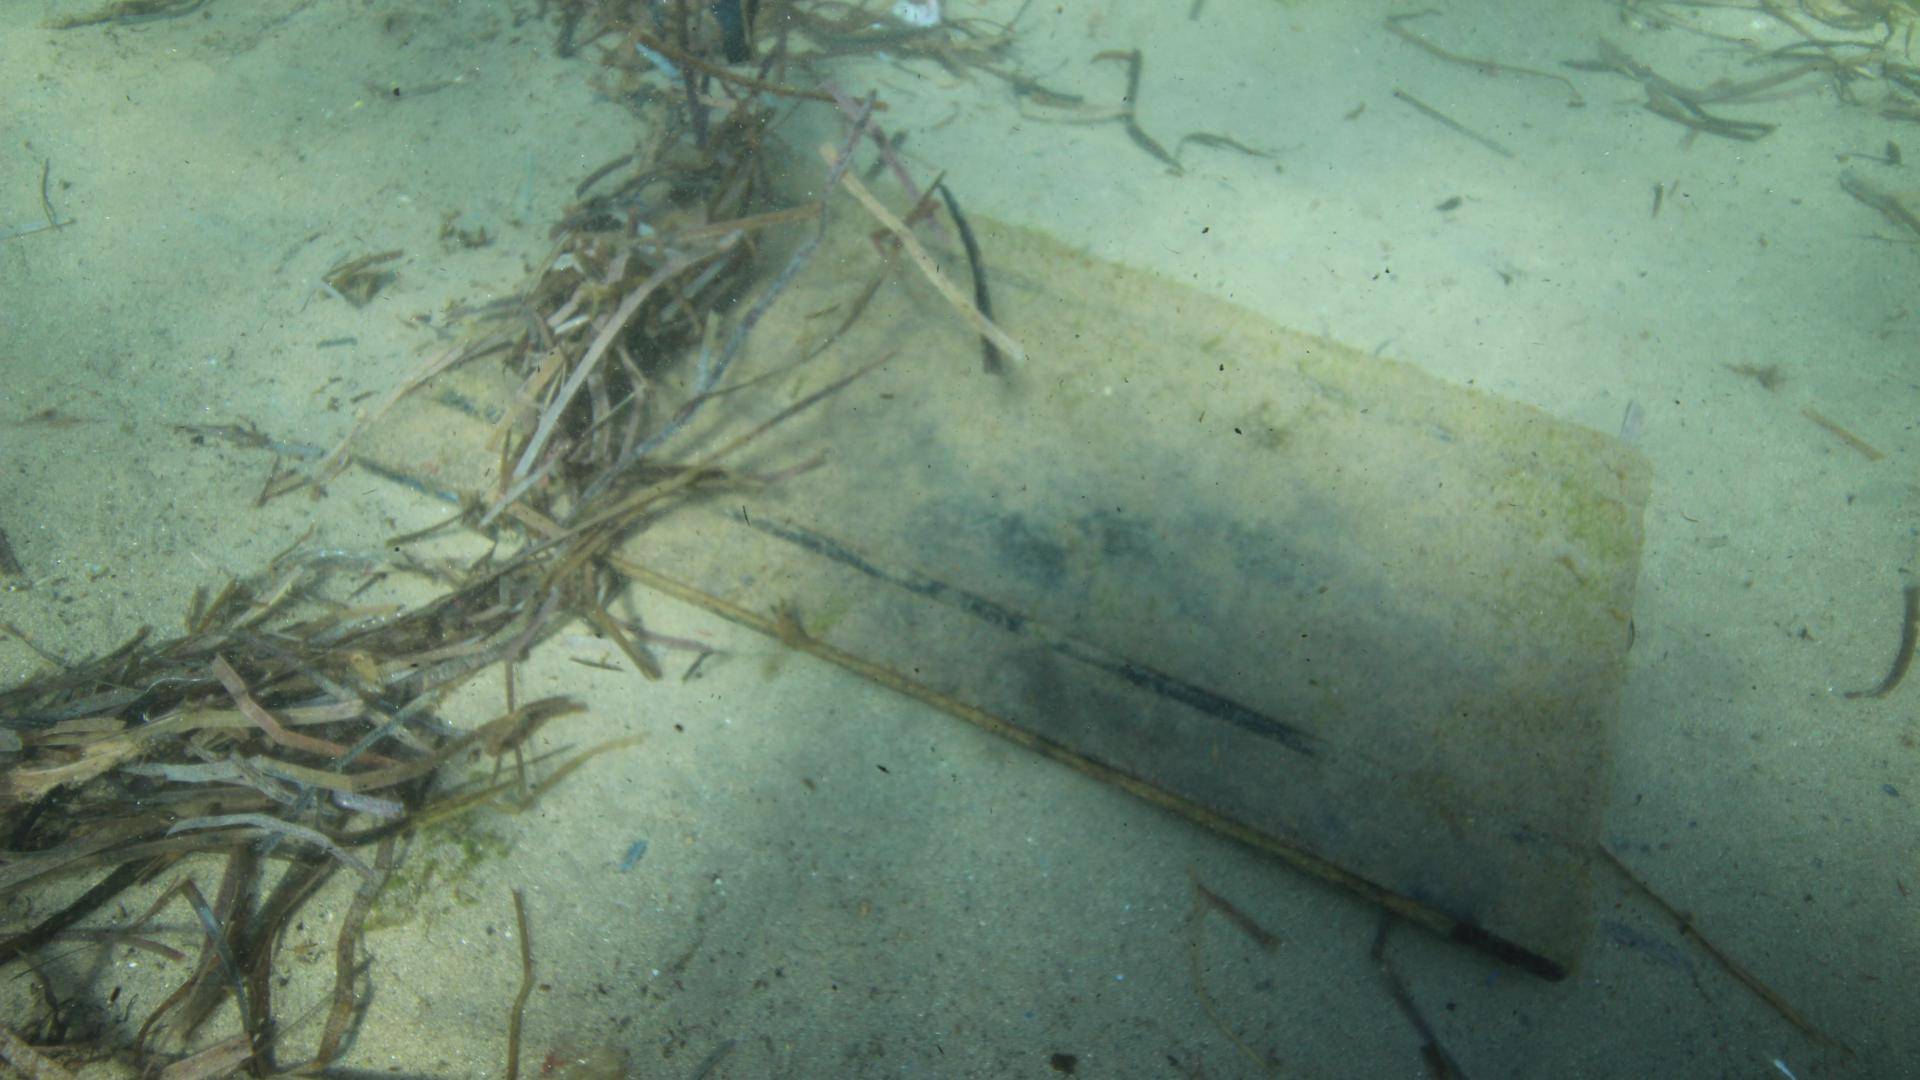wood: (345, 131, 1654, 978)
